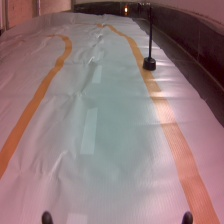yellow: (121, 1, 160, 72)
